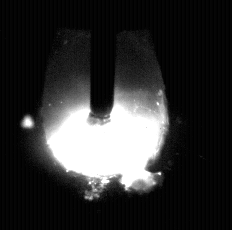arame: (90, 0, 116, 125)
poca: (43, 0, 168, 230)
